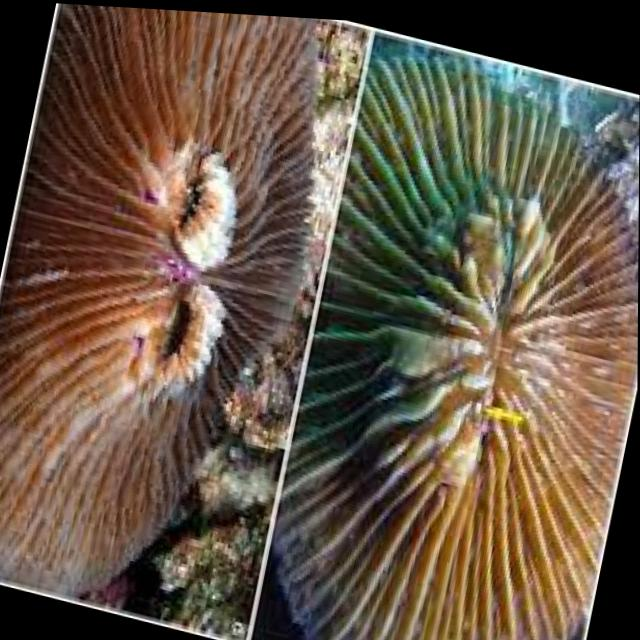Healthy Coral: (252, 39, 640, 640), (0, 0, 352, 630)
